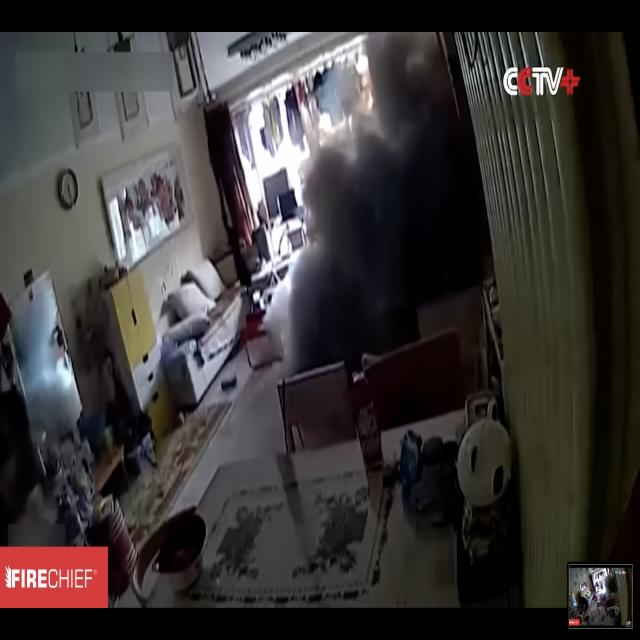Atencao: (255, 46, 485, 375)
